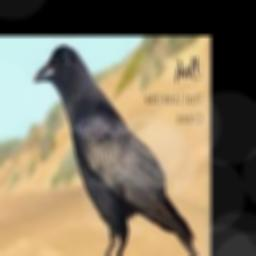Crow: (34, 44, 201, 256)
